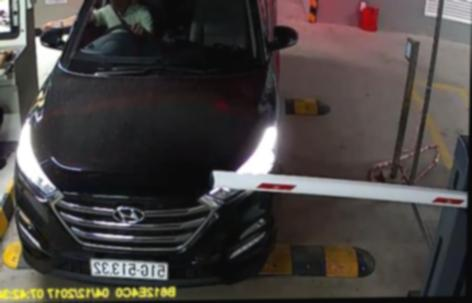License_Plate: (90, 256, 170, 279)
